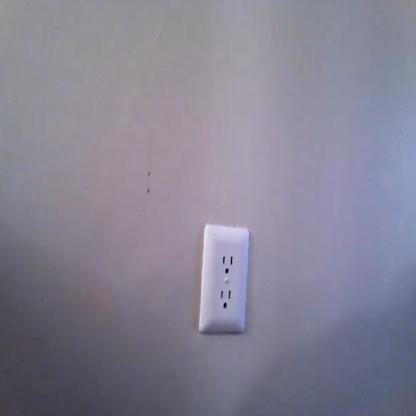OUTLET: (200, 224, 247, 331)
